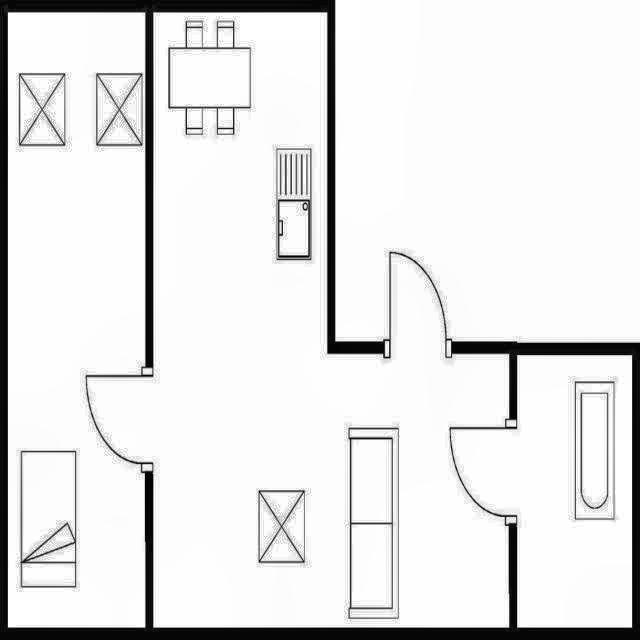room: (153, 12, 509, 629), (7, 12, 146, 627), (516, 355, 632, 628)
